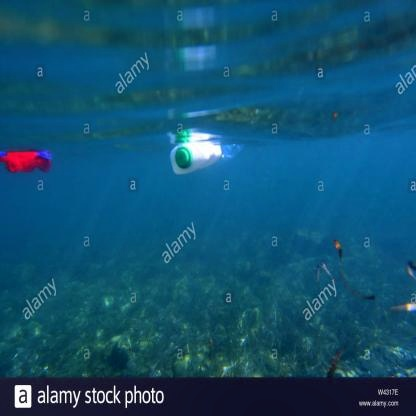pbottle: (163, 134, 235, 184)
